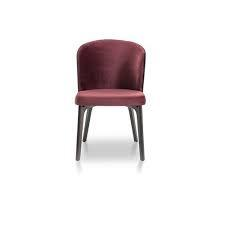chair: (73, 37, 154, 169)
